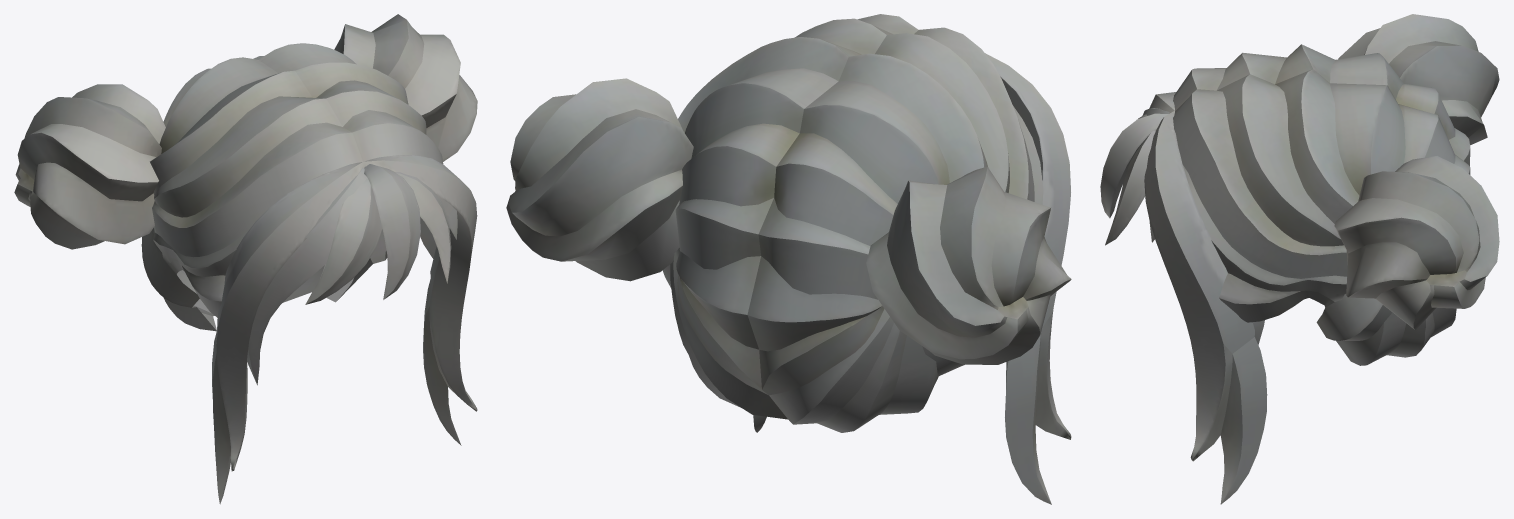
File: hair_Hair_Buns.glb
3 renders of one model, left to right at view 1: azimuth 30°, elevation 25°; view 2: azimuth 150°, elevation 25°; view 3: azimuth 270°, elevation 25°, orthographic. The views are drawn at different scales.
Parts seen in each view (by area): view 1: Hair_Buns; view 2: Hair_Buns; view 3: Hair_Buns.
Boxes of the visible parts, <box> form: Hair_Buns: <box>14,14,477,504</box>; Hair_Buns: <box>506,14,1071,504</box>; Hair_Buns: <box>1100,14,1499,504</box>.
Bounding box in the file's own units: 0.3015 × 0.2491 × 0.2368.
Materials: 1 (1 with a texture image).
